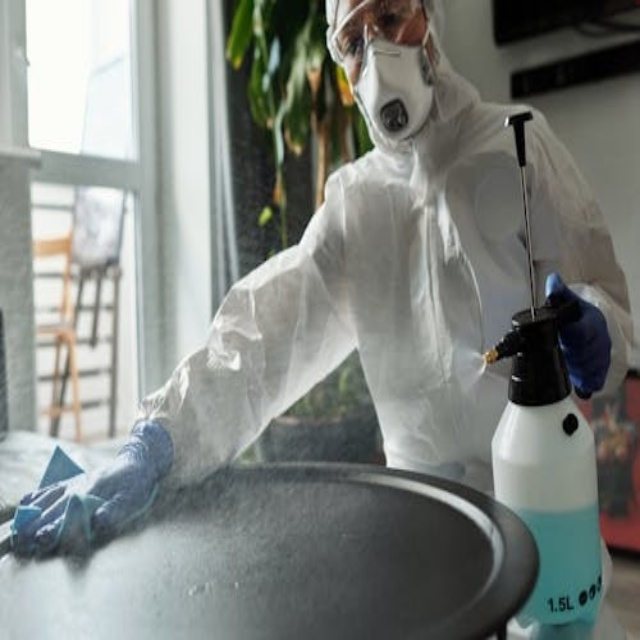Gafas: (332, 0, 435, 71)
Guantes: (11, 414, 176, 558), (546, 273, 612, 399)
Mascara: (344, 15, 439, 144)
